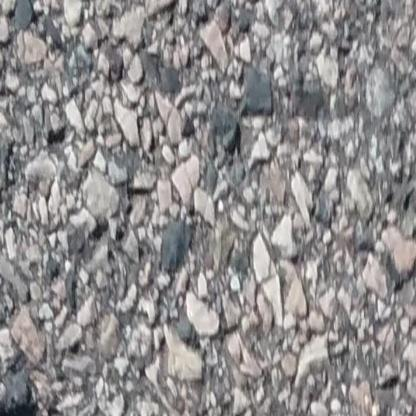Cracks: (0, 392, 44, 416)
